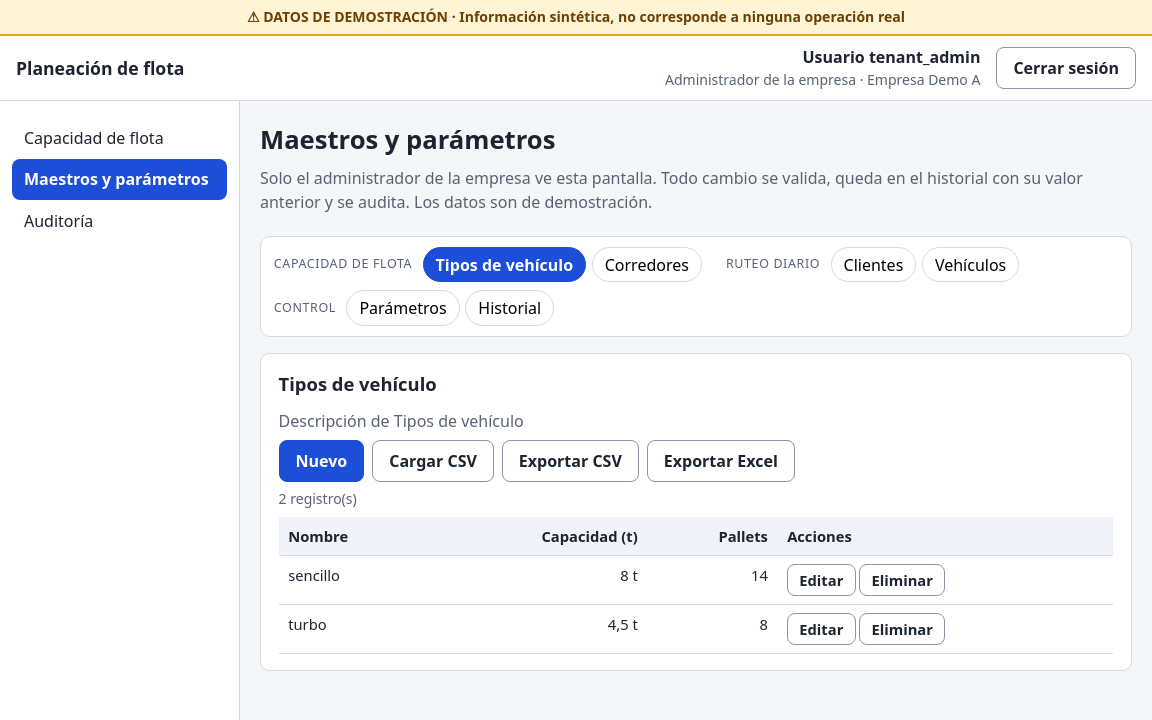
Scenario: tablas de maestros › indica cuando solo se muestra una parte de los registros
Click the tab "Vehículos": (971, 264) [922,247,1019,282]
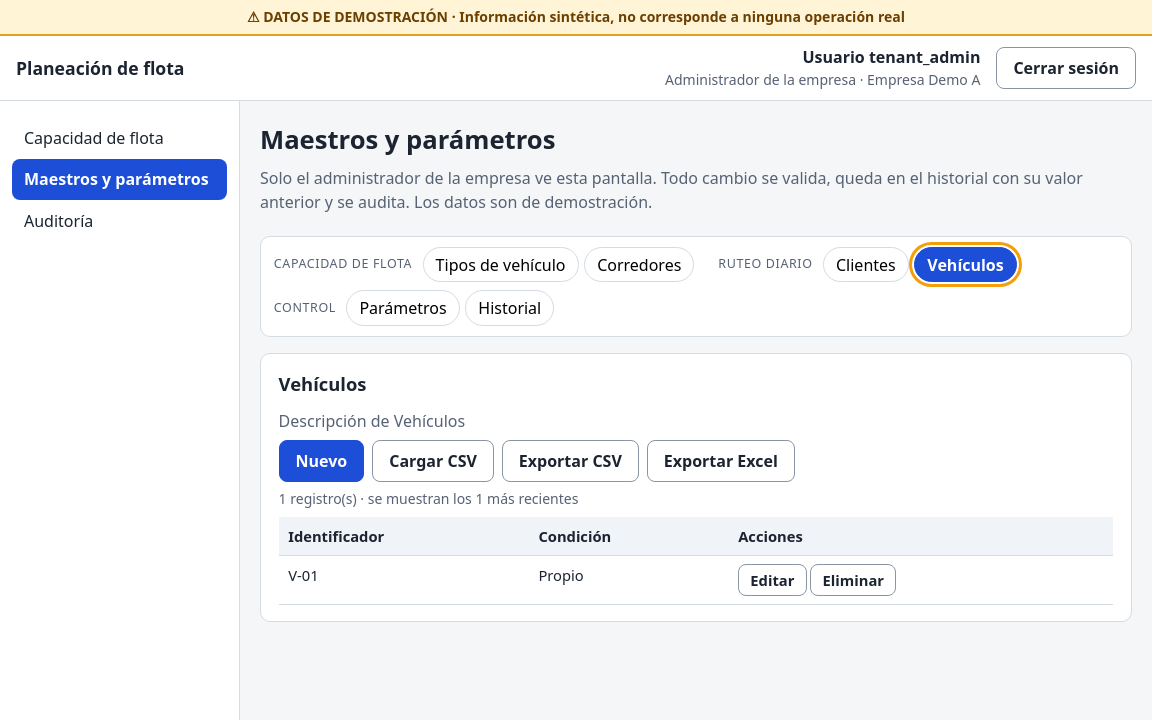
Result: the text "1 registro(s) · se muestran los 1 más recientes" is shown at [279,489,578,508]
Result: the text "Propio" is shown at [529,556,729,605]
